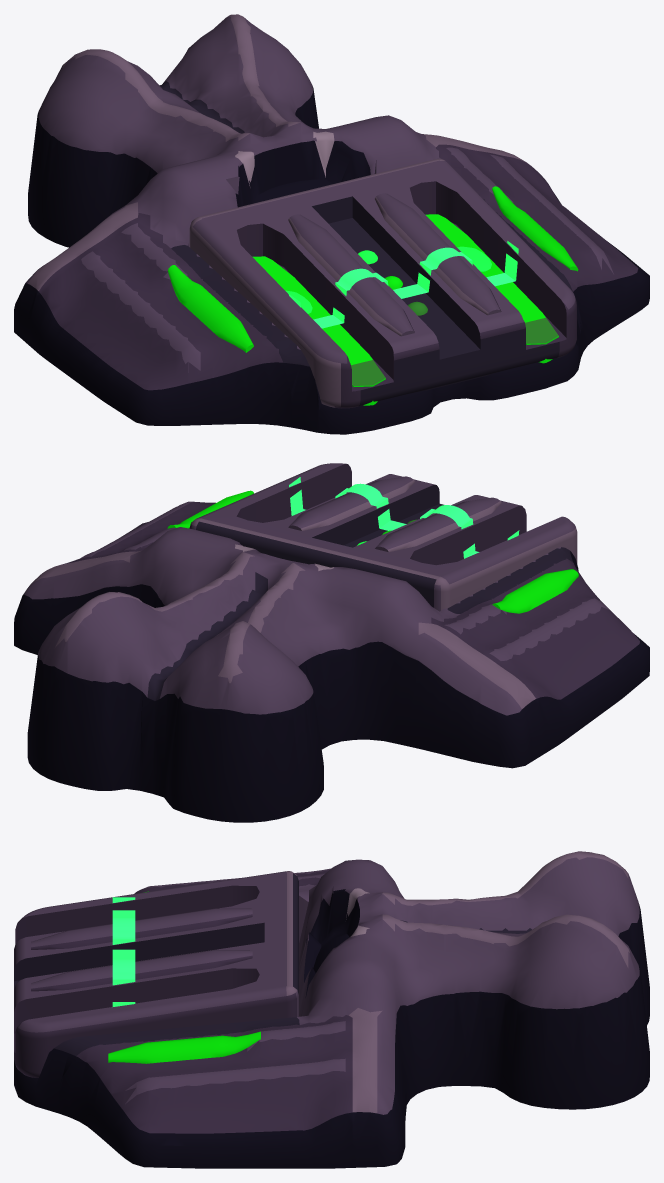
The model's file is purple_beacon_11.glb.
3 views of the same model, one above another, from view 1: azimuth 30°, elevation 25°; view 2: azimuth 150°, elevation 25°; view 3: azimuth 270°, elevation 25° (orthographic). The views are drawn at different scales.
Visible parts, largest first — view 1: body, block, ridge1, ridge-1, floor-1, strip1, bar, floor1, strip-1; view 2: body, block, ridge-1, ridge1, bar, strip1, strip-1; view 3: body, block, ridge-1, ridge1, strip-1, bar.
Boxes of the visible parts, bbox=[...] form: body: bbox=[14, 14, 649, 434]; block: bbox=[189, 158, 576, 408]; ridge1: bbox=[375, 193, 501, 315]; ridge-1: bbox=[288, 214, 414, 336]; floor-1: bbox=[252, 256, 385, 405]; strip1: bbox=[168, 265, 253, 352]; bar: bbox=[289, 241, 518, 328]; floor1: bbox=[425, 214, 558, 363]; strip-1: bbox=[492, 186, 578, 271]; body: bbox=[14, 501, 649, 822]; block: bbox=[189, 463, 577, 611]; ridge-1: bbox=[375, 497, 501, 552]; ridge1: bbox=[288, 476, 414, 530]; bar: bbox=[289, 477, 519, 558]; strip1: bbox=[492, 569, 578, 613]; strip-1: bbox=[167, 490, 253, 528]; body: bbox=[14, 851, 649, 1168]; block: bbox=[14, 871, 298, 1077]; ridge-1: bbox=[31, 908, 252, 949]; ridge1: bbox=[31, 949, 252, 991]; strip-1: bbox=[108, 1031, 260, 1063]; bar: bbox=[112, 897, 135, 1006].
Size of the model in its own units: 24 by 7.25 by 26.
